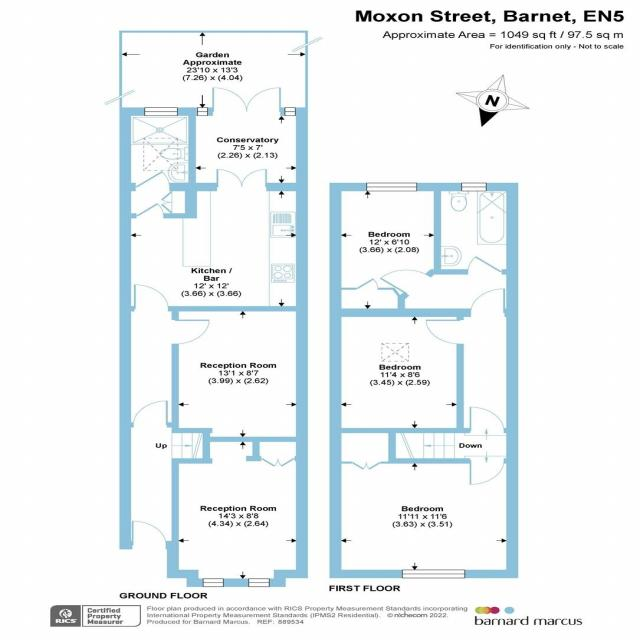DOOR: (380, 269, 432, 296), (424, 317, 464, 345), (469, 288, 507, 317), (171, 319, 210, 345), (133, 284, 170, 311), (469, 458, 506, 485), (469, 406, 505, 433), (133, 400, 168, 427), (131, 521, 167, 545)
DOUBLE DOOR: (216, 169, 268, 192)
ROOM: (120, 168, 309, 312), (330, 458, 518, 579), (166, 428, 308, 587), (171, 306, 309, 442), (329, 308, 464, 433), (329, 182, 442, 299)
WINDOW: (401, 570, 466, 579), (366, 182, 418, 191), (144, 107, 178, 116), (461, 182, 487, 191), (202, 578, 224, 587), (248, 578, 270, 587), (284, 107, 296, 116), (197, 107, 208, 116)
